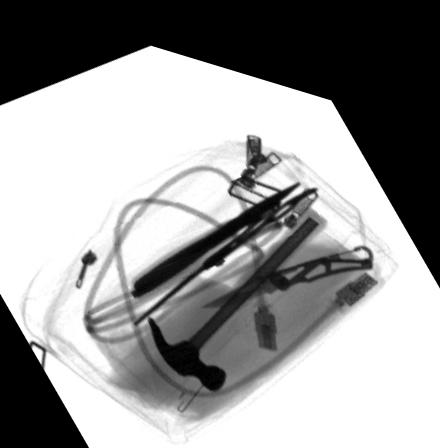Hammer: (147, 186, 330, 380)
Knife: (200, 220, 374, 296)
Pliers: (130, 162, 301, 290)
Scissors: (130, 167, 321, 317)
